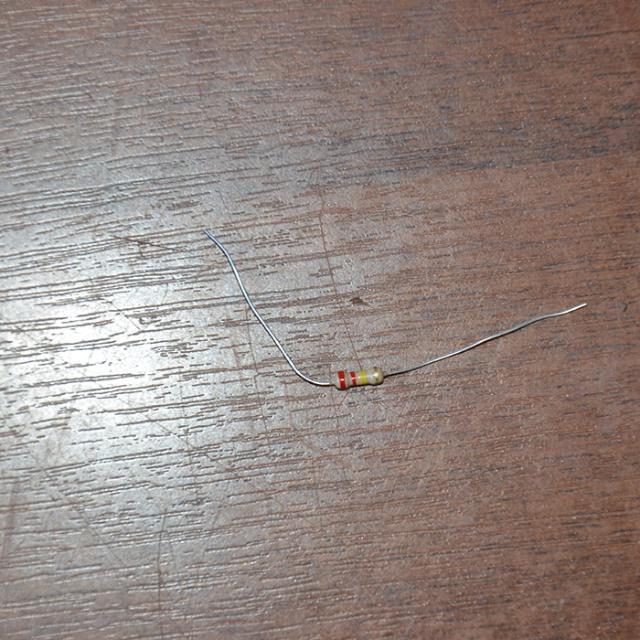gold: (372, 367, 379, 381)
red: (339, 372, 346, 389), (351, 370, 358, 384)
resistor: (326, 361, 392, 397)
yellow: (359, 370, 366, 384)
